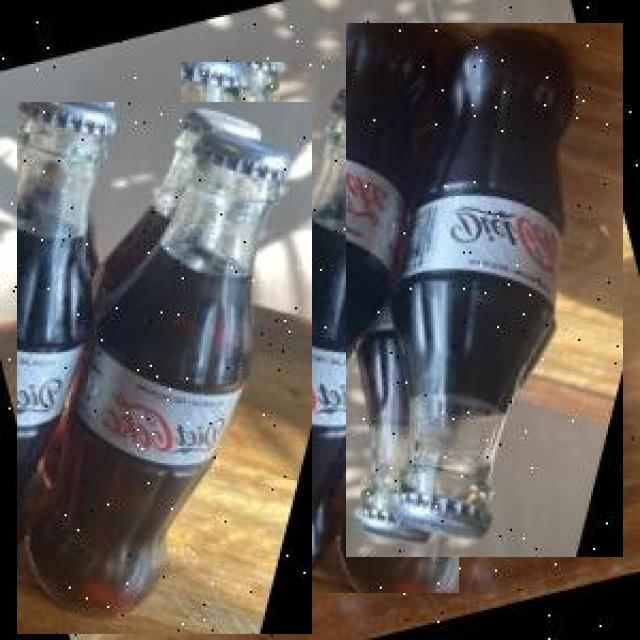coca-cola: (17, 102, 312, 634), (346, 23, 623, 557), (181, 62, 459, 593)
